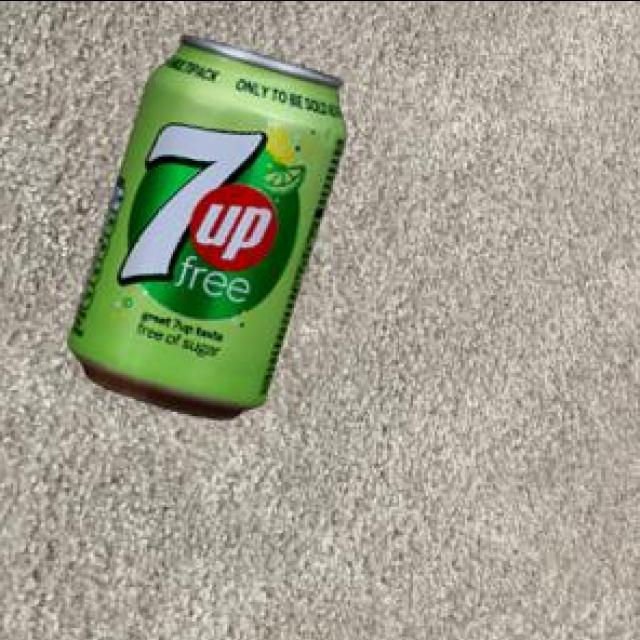logam: (72, 31, 349, 414)
